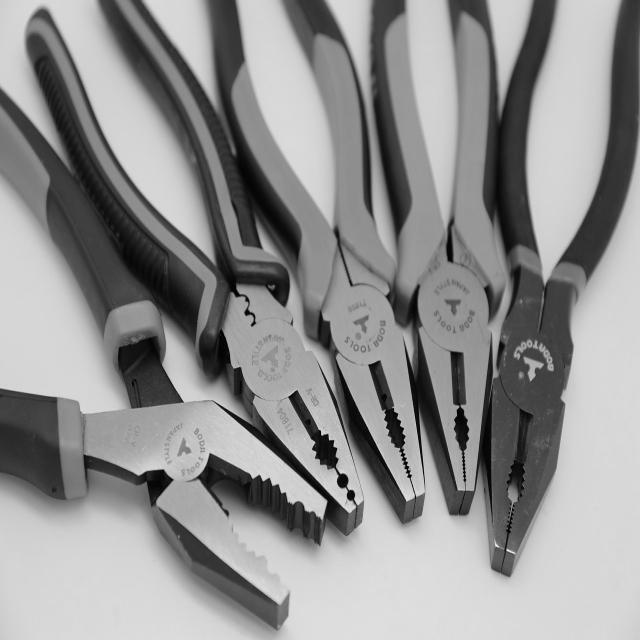pliers: (0, 0, 638, 634)
